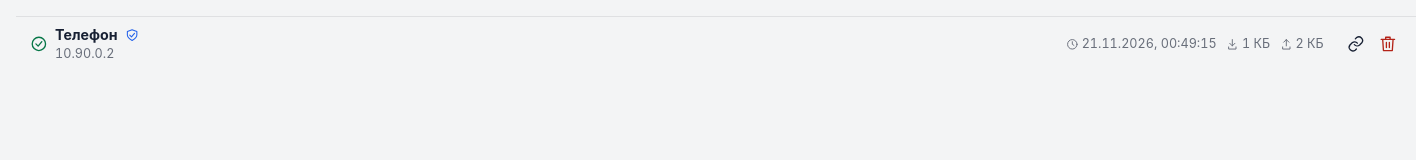
it: PeerRow › shows deletion errors and re-enables the action
Click the button named "Удалить подключение" at (1388, 44), box [1373,30,1402,58]
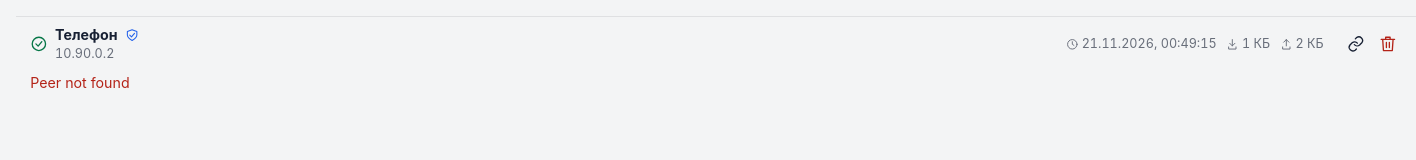
Expected: the message reads "Peer not found", [30,74,130,90]
